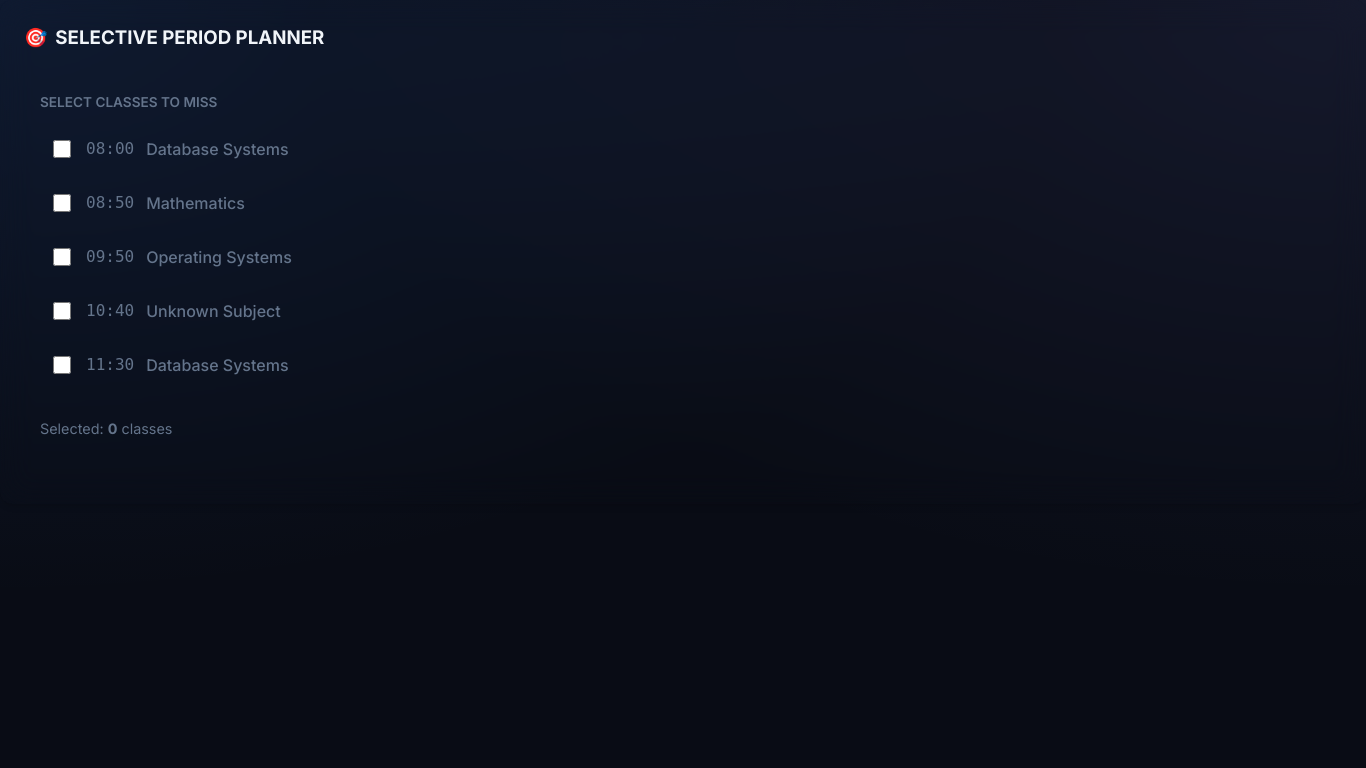
SelectivePeriodPlanner › calculates properly when 2 periods are selected
Click the checkbox labelled "08:00 Database Systems": (62, 150) x1=53 y1=140 x2=71 y2=158
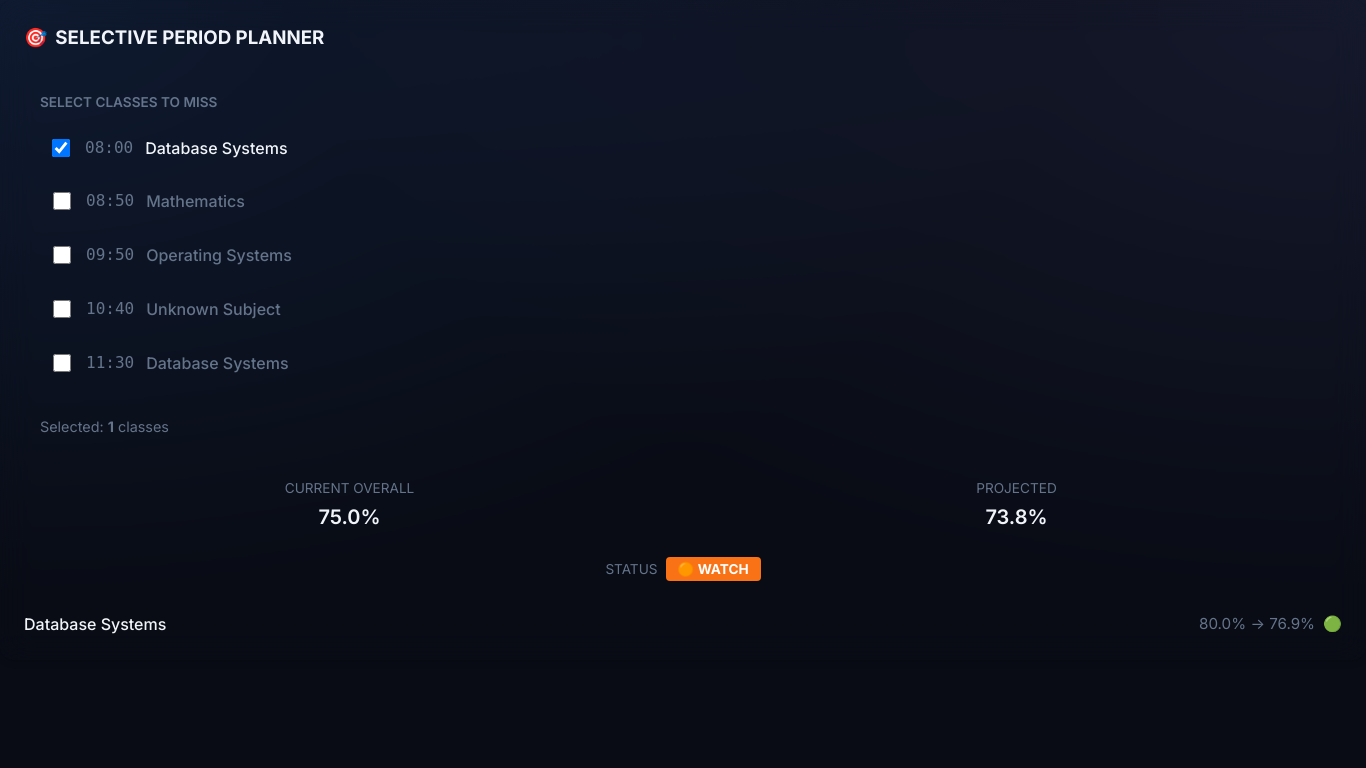
Click the checkbox labelled "08:50 Mathematics": (62, 202) x1=53 y1=192 x2=71 y2=210
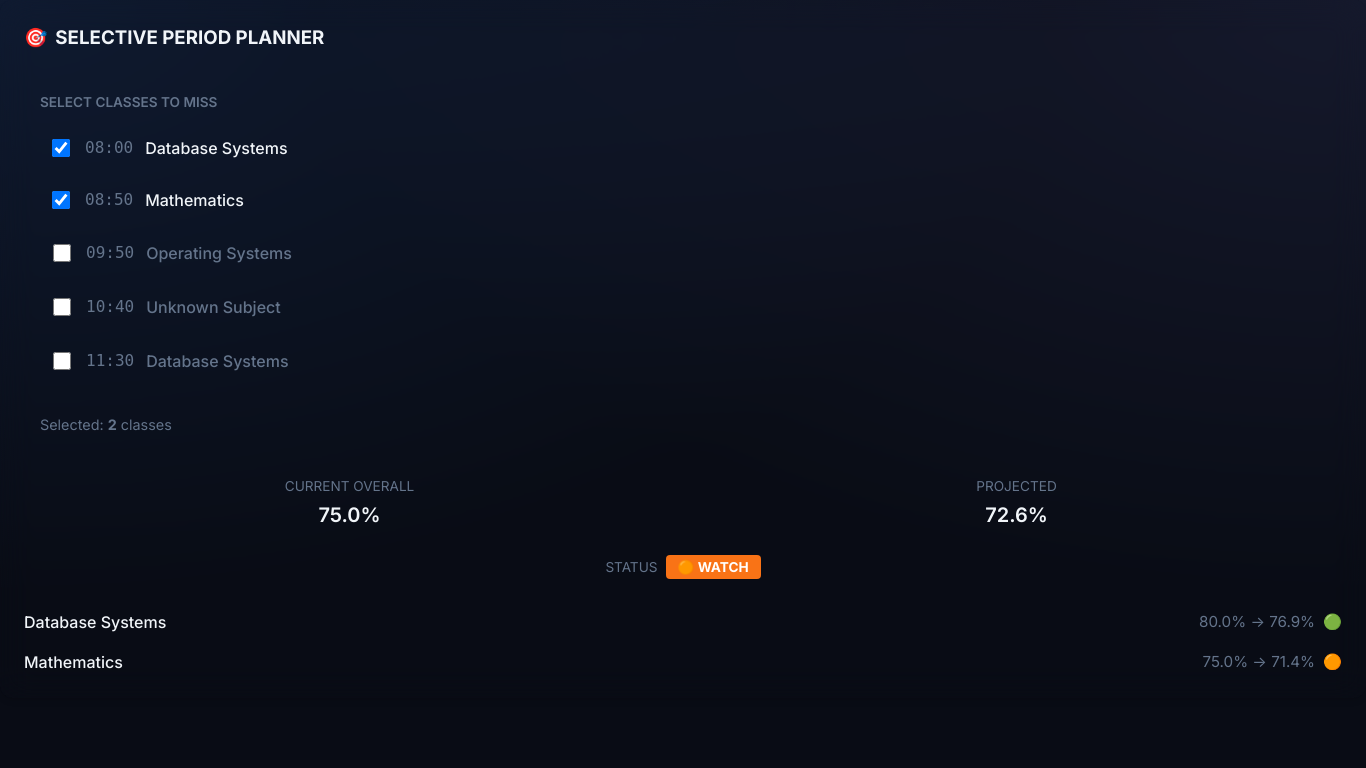
Result: the text "2" is shown at x1=108 y1=416 x2=117 y2=434
Result: the text "72.6%" is shown at x1=985 y1=504 x2=1048 y2=528
